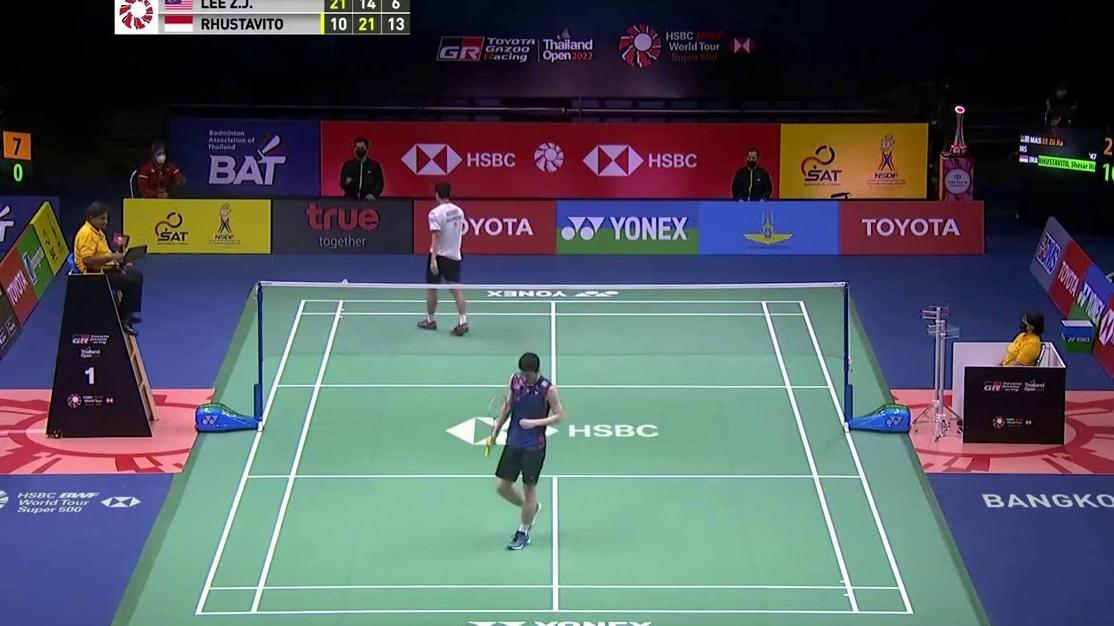racket: (483, 394, 507, 458)
shuttle: (342, 278, 349, 285)
